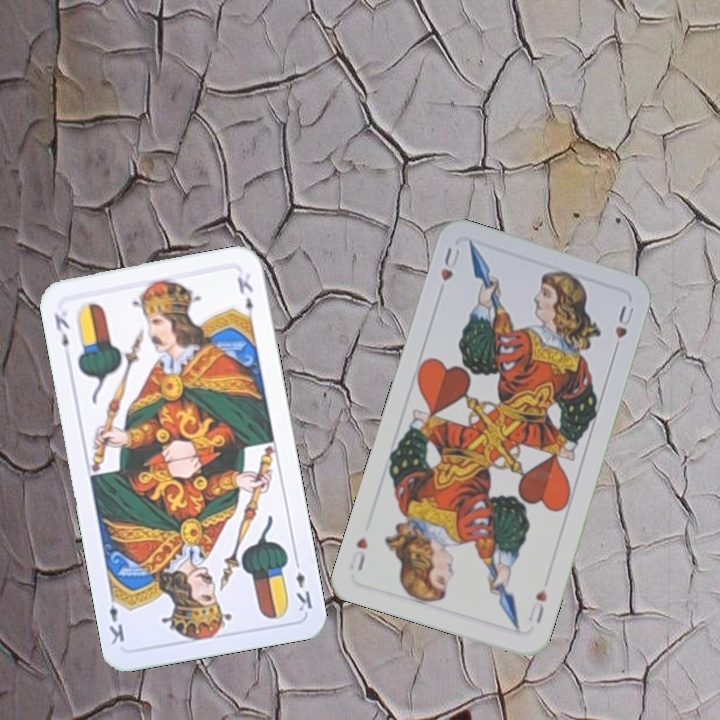EK: (290, 554, 315, 614), (50, 309, 72, 350)
HU: (436, 242, 463, 283), (524, 586, 550, 627)
